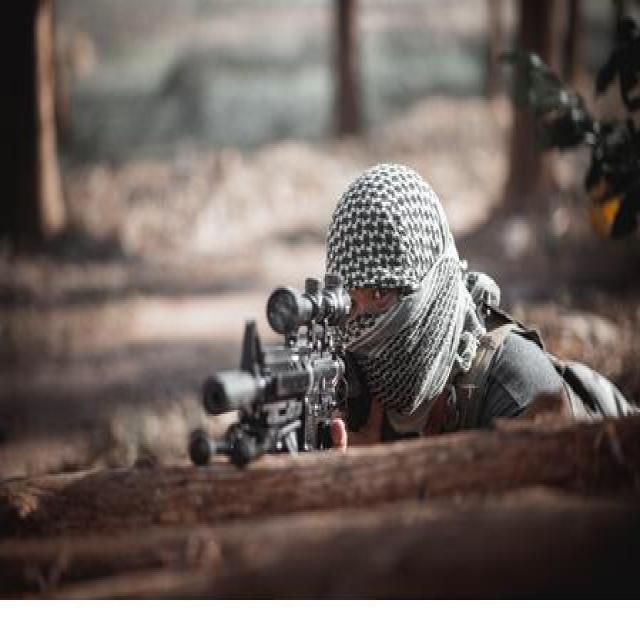6_pasamontana: (326, 160, 484, 417)
